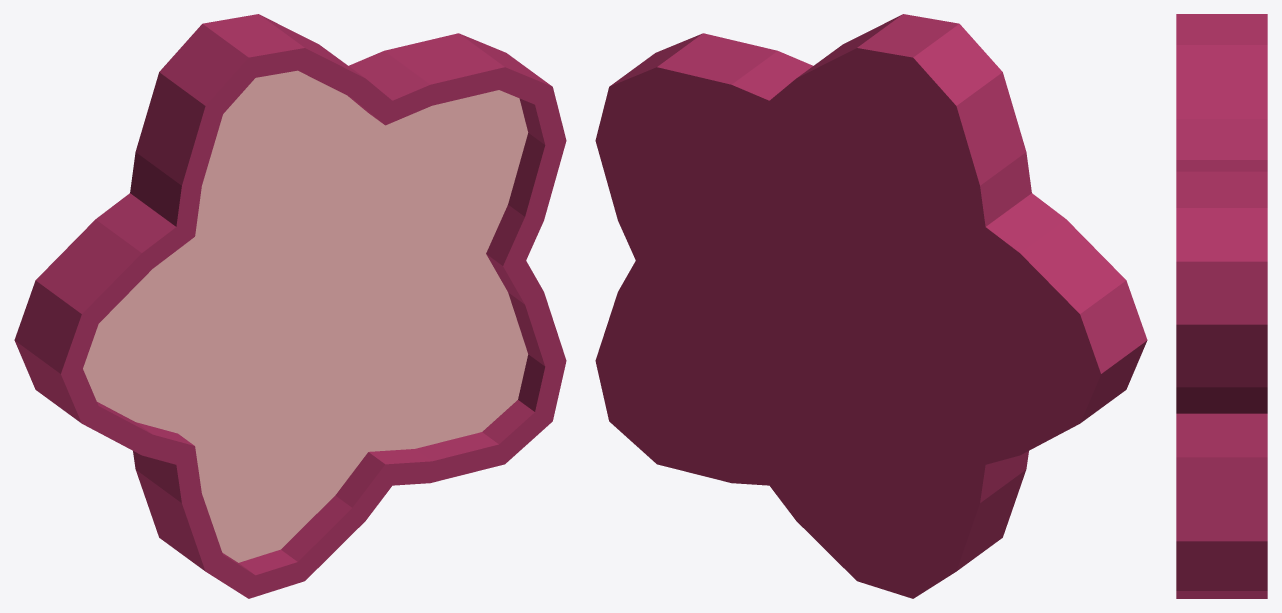
File: Prop_WallDecor_01.fbx
The picture shows the model from 3 angles, left to right: view 1: azimuth 30°, elevation 25°; view 2: azimuth 150°, elevation 25°; view 3: azimuth 270°, elevation 25°; orthographic projection.
Parts seen in each view (by area): view 1: Prop_WallDecor_01; view 2: Prop_WallDecor_01; view 3: Prop_WallDecor_01.
Part boxes in pixels (<box>): Prop_WallDecor_01: <box>14,14,566,598</box>; Prop_WallDecor_01: <box>595,14,1147,598</box>; Prop_WallDecor_01: <box>1176,14,1267,598</box>.
Size of the model in its own units: 25 by 25.58 by 3.97.
